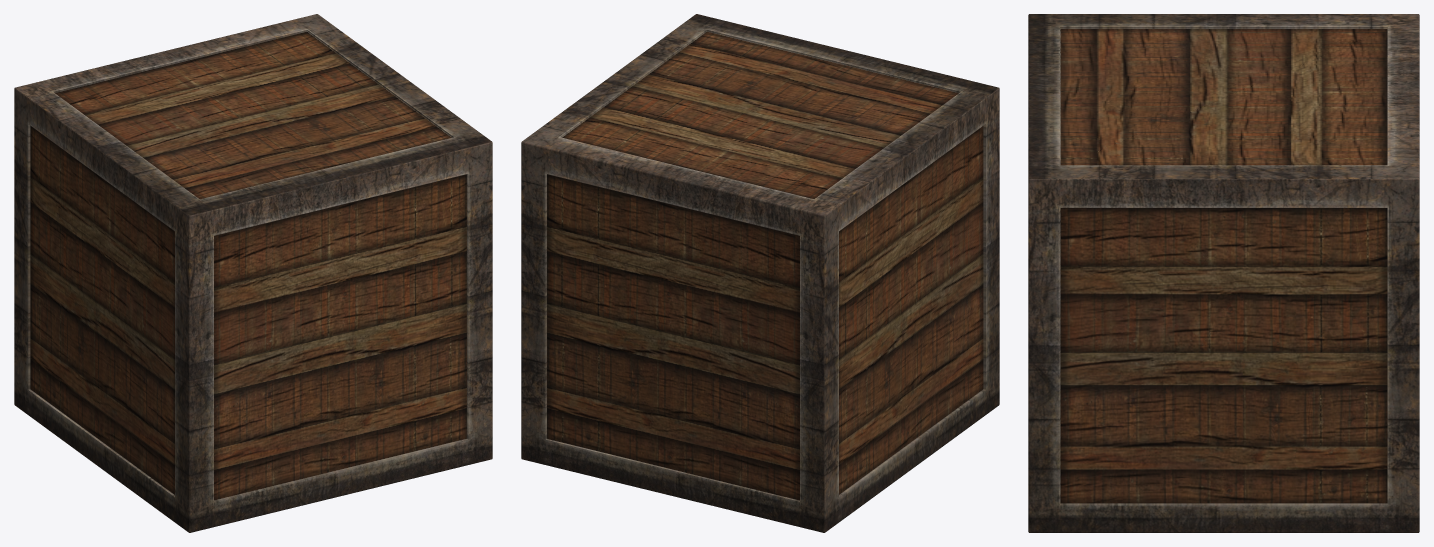
The model's file is cube_blender_pretty.obj.
The picture shows the model from 3 angles, left to right: view 1: azimuth 30°, elevation 25°; view 2: azimuth 150°, elevation 25°; view 3: azimuth 270°, elevation 25°; orthographic projection. The views are drawn at different scales.
Parts seen in each view (by area): view 1: Cube; view 2: Cube; view 3: Cube.
Part boxes in pixels (x1=…): Cube: x1=14, y1=14, x2=492, y2=532; Cube: x1=521, y1=14, x2=999, y2=532; Cube: x1=1028, y1=14, x2=1419, y2=532.
Bounding box in the file's own units: 2 × 2 × 2.
